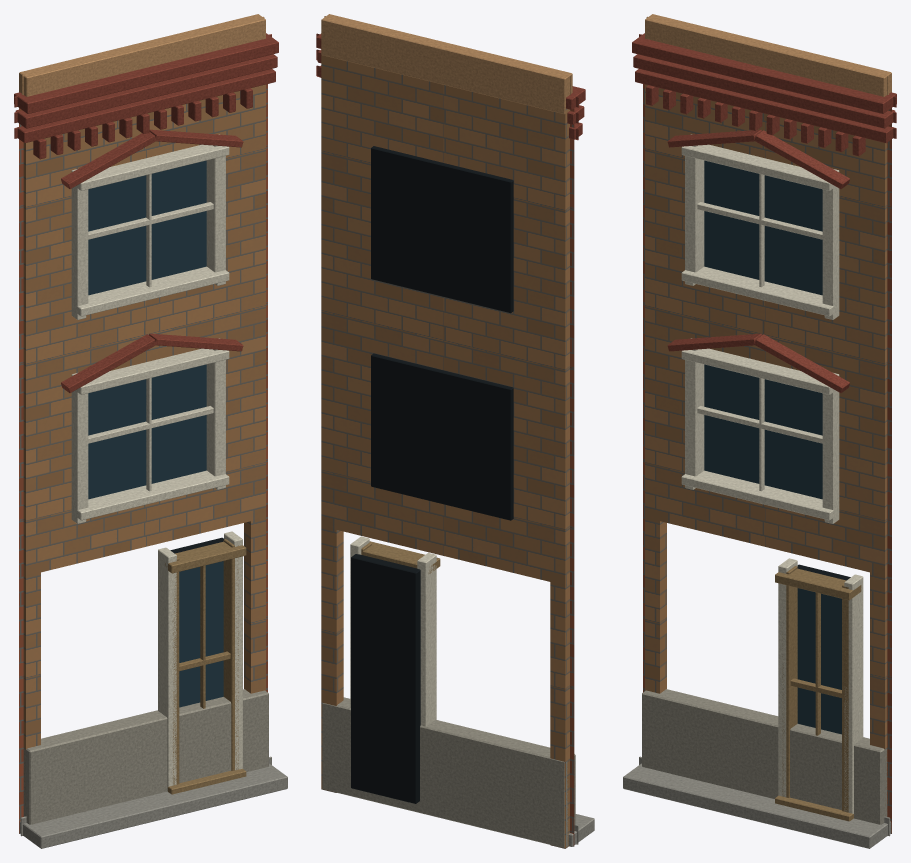
File: VICT1A_lod1.glb
3 renders of one model, left to right at view 1: azimuth 30°, elevation 25°; view 2: azimuth 150°, elevation 25°; view 3: azimuth 330°, elevation 25°, orthographic.
Parts seen in each view (by area): view 1: VICT1A_FRONT_LOD1; view 2: VICT1A_FRONT_LOD1; view 3: VICT1A_FRONT_LOD1.
Part boxes in pixels (bbox=[...]): VICT1A_FRONT_LOD1: bbox=[14, 14, 287, 848]; VICT1A_FRONT_LOD1: bbox=[316, 14, 594, 848]; VICT1A_FRONT_LOD1: bbox=[623, 14, 896, 848].
Bounding box in the file's own units: 3.44 × 9.66 × 0.68.
Materials: 11 (9 with a texture image).
